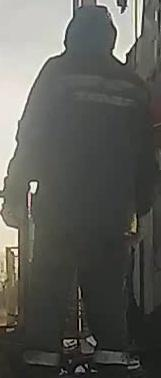gloves: (0, 195, 33, 236), (133, 206, 152, 249)
vest: (31, 47, 153, 234)
